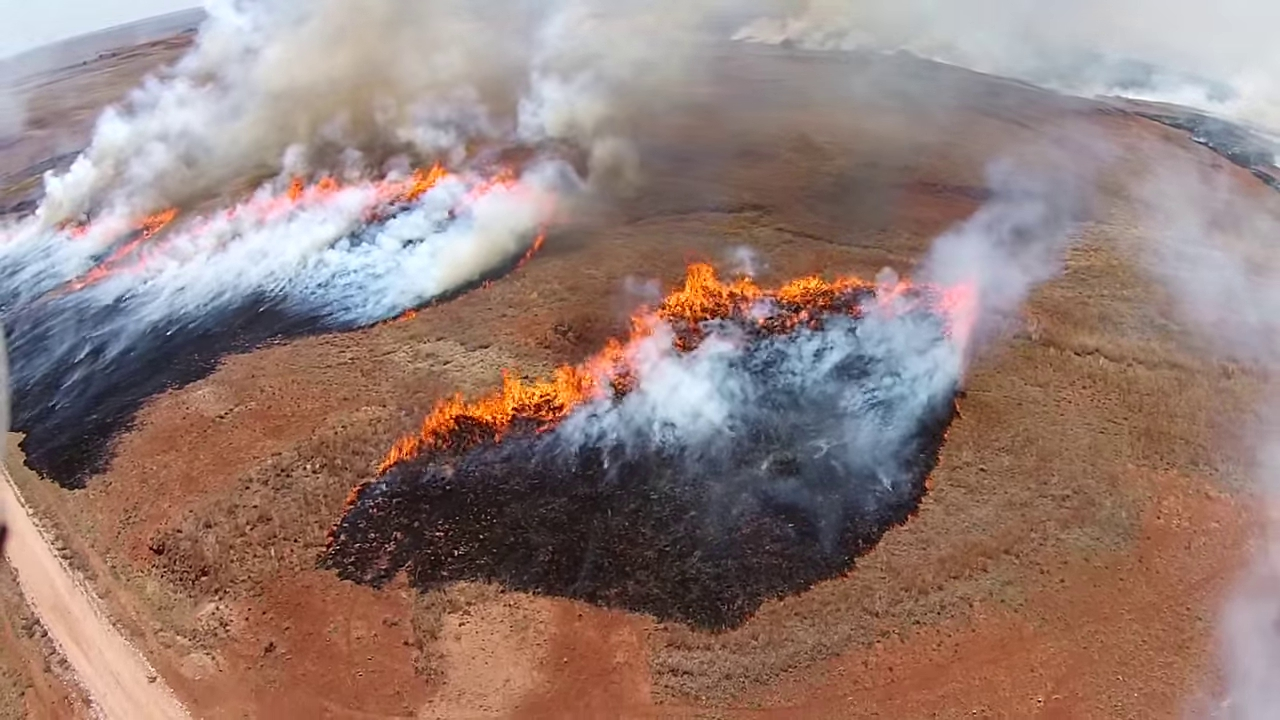forest_fire: (377, 263, 872, 476), (72, 208, 177, 288), (227, 177, 343, 217), (374, 163, 456, 206)
